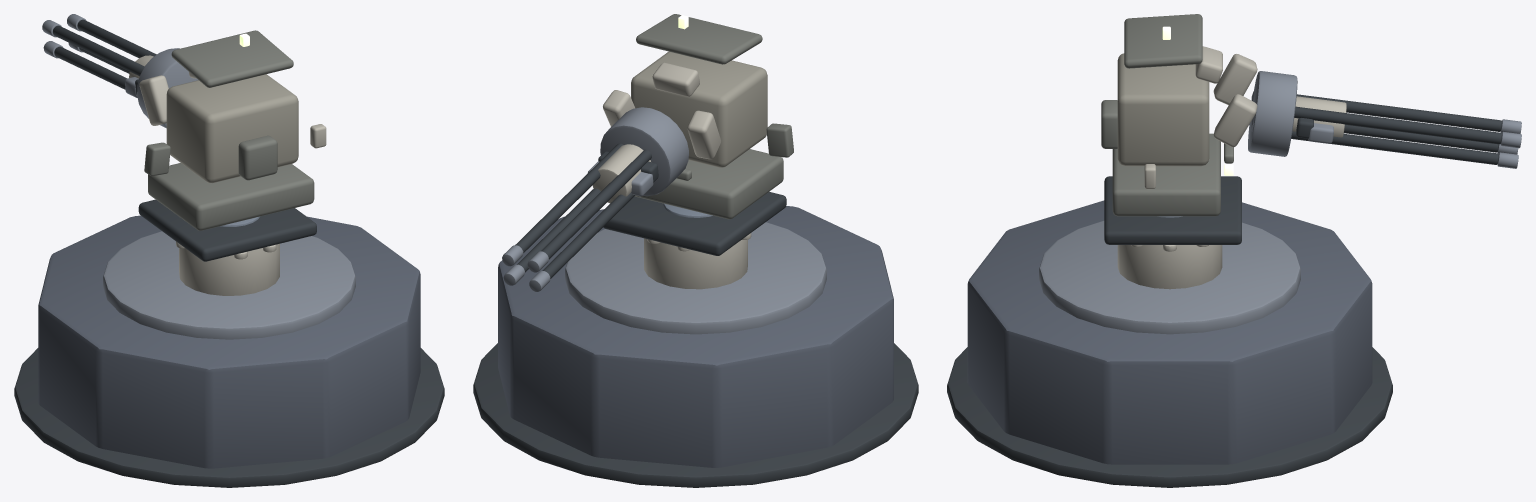
The model's file is mg7_lvl4.glb.
3 renders of one model, left to right at view 1: azimuth 30°, elevation 25°; view 2: azimuth 150°, elevation 25°; view 3: azimuth 270°, elevation 25°, orthographic. The views are drawn at different scales.
Parts seen in each view (by area): view 1: pedestal_skirt, pedestal_ring, pedestal_lower_ring, hull_main, hull_lower, turret_deck, roof, pedestal_collar, rear_box, mantlet, barrel_01, front_cheek_left (+3 smaller); view 2: pedestal_skirt, pedestal_ring, pedestal_lower_ring, hull_main, turret_deck, hull_lower, mantlet, pedestal_collar, roof, barrel_01, barrel_02, barrel_03 (+6 smaller); view 3: pedestal_skirt, pedestal_ring, pedestal_lower_ring, hull_main, hull_lower, turret_deck, pedestal_collar, roof, mantlet, barrel_02, barrel_04, barrel_01 (+6 smaller).
Part boxes in pixels (<box>): pedestal_skirt: <box>38,215,420,468</box>; pedestal_ring: <box>103,231,355,339</box>; pedestal_lower_ring: <box>14,348,444,487</box>; hull_main: <box>166,74,298,183</box>; hull_lower: <box>148,163,314,230</box>; turret_deck: <box>138,199,316,261</box>; roof: <box>171,30,293,87</box>; pedestal_collar: <box>179,243,279,295</box>; rear_box: <box>238,135,277,180</box>; mantlet: <box>137,48,198,128</box>; barrel_01: <box>53,25,144,76</box>; front_cheek_left: <box>139,75,168,125</box>; pedestal_skirt: <box>498,206,893,467</box>; pedestal_ring: <box>565,222,826,334</box>; pedestal_lower_ring: <box>473,343,918,487</box>; hull_main: <box>631,51,767,167</box>; turret_deck: <box>603,191,786,255</box>; hull_lower: <box>634,149,783,219</box>; mantlet: <box>600,107,688,196</box>; pedestal_collar: <box>644,238,747,289</box>; roof: <box>636,14,762,64</box>; barrel_01: <box>541,149,651,259</box>; barrel_02: <box>515,143,623,252</box>; barrel_03: <box>542,192,634,278</box>; pedestal_skirt: <box>967,200,1372,464</box>; pedestal_ring: <box>1039,220,1300,334</box>; pedestal_lower_ring: <box>947,347,1392,487</box>; hull_main: <box>1117,53,1209,166</box>; hull_lower: <box>1112,133,1220,216</box>; turret_deck: <box>1104,176,1241,244</box>; pedestal_collar: <box>1117,245,1222,289</box>; roof: <box>1124,14,1202,68</box>; mantlet: <box>1248,71,1297,156</box>; barrel_02: <box>1294,106,1501,144</box>; barrel_04: <box>1291,131,1498,164</box>; barrel_01: <box>1296,94,1501,131</box>.
Bounding box in the file's own units: 1.36 × 1.27 × 1.75.
